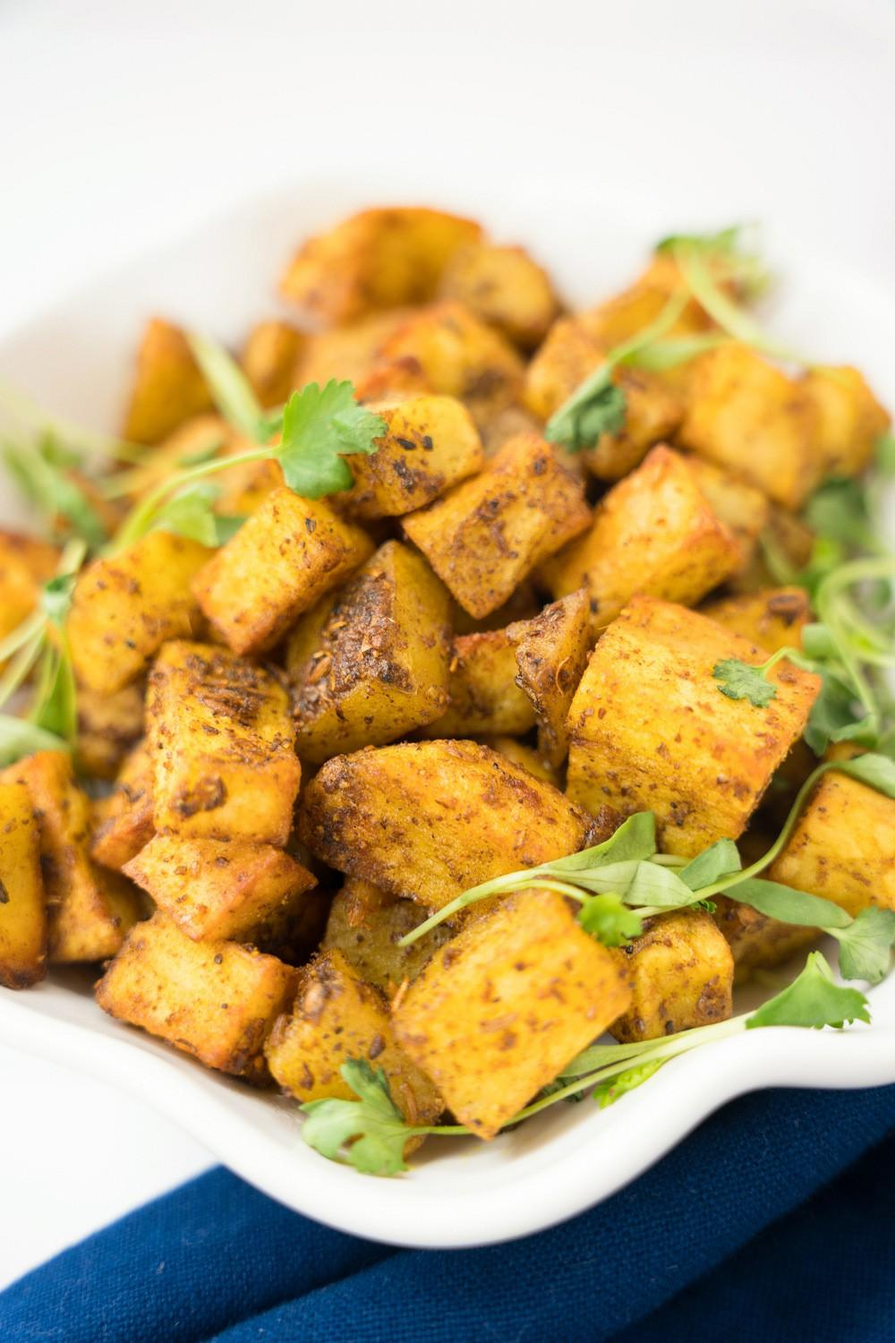AlooMasala: (0, 205, 895, 1156)
